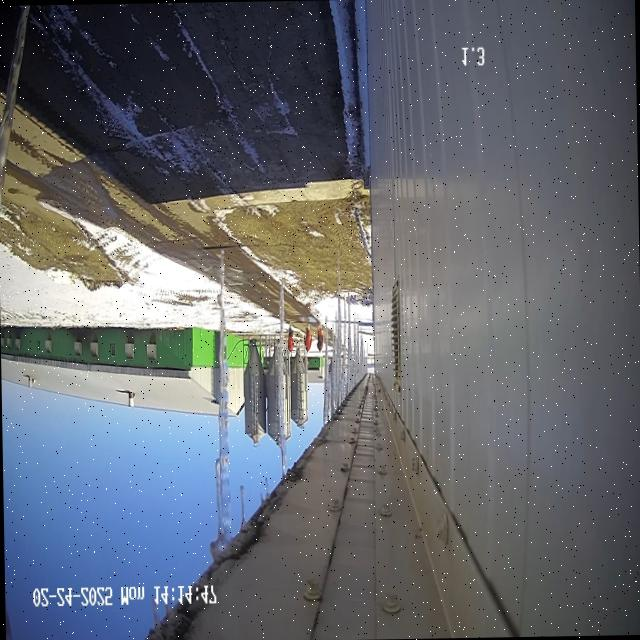Red uniform: (316, 321, 323, 351), (304, 323, 311, 352), (287, 324, 293, 354)
